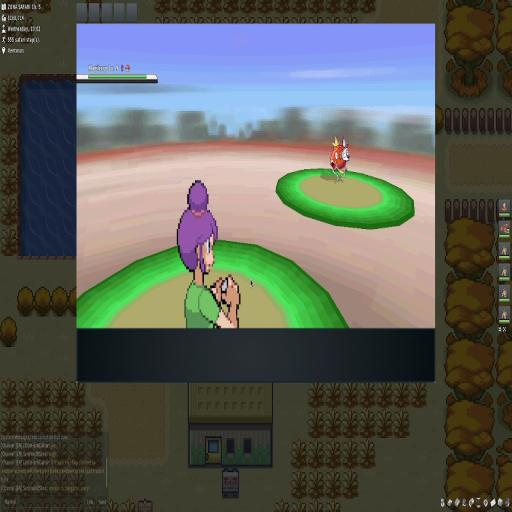MAGIKARP: (328, 134, 351, 182)
